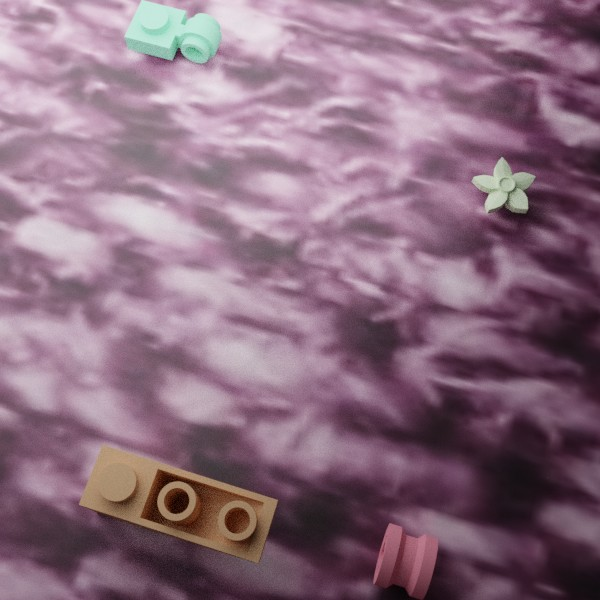lego: (78, 444, 278, 563), (124, 0, 221, 63), (373, 523, 438, 599), (471, 156, 535, 213)
